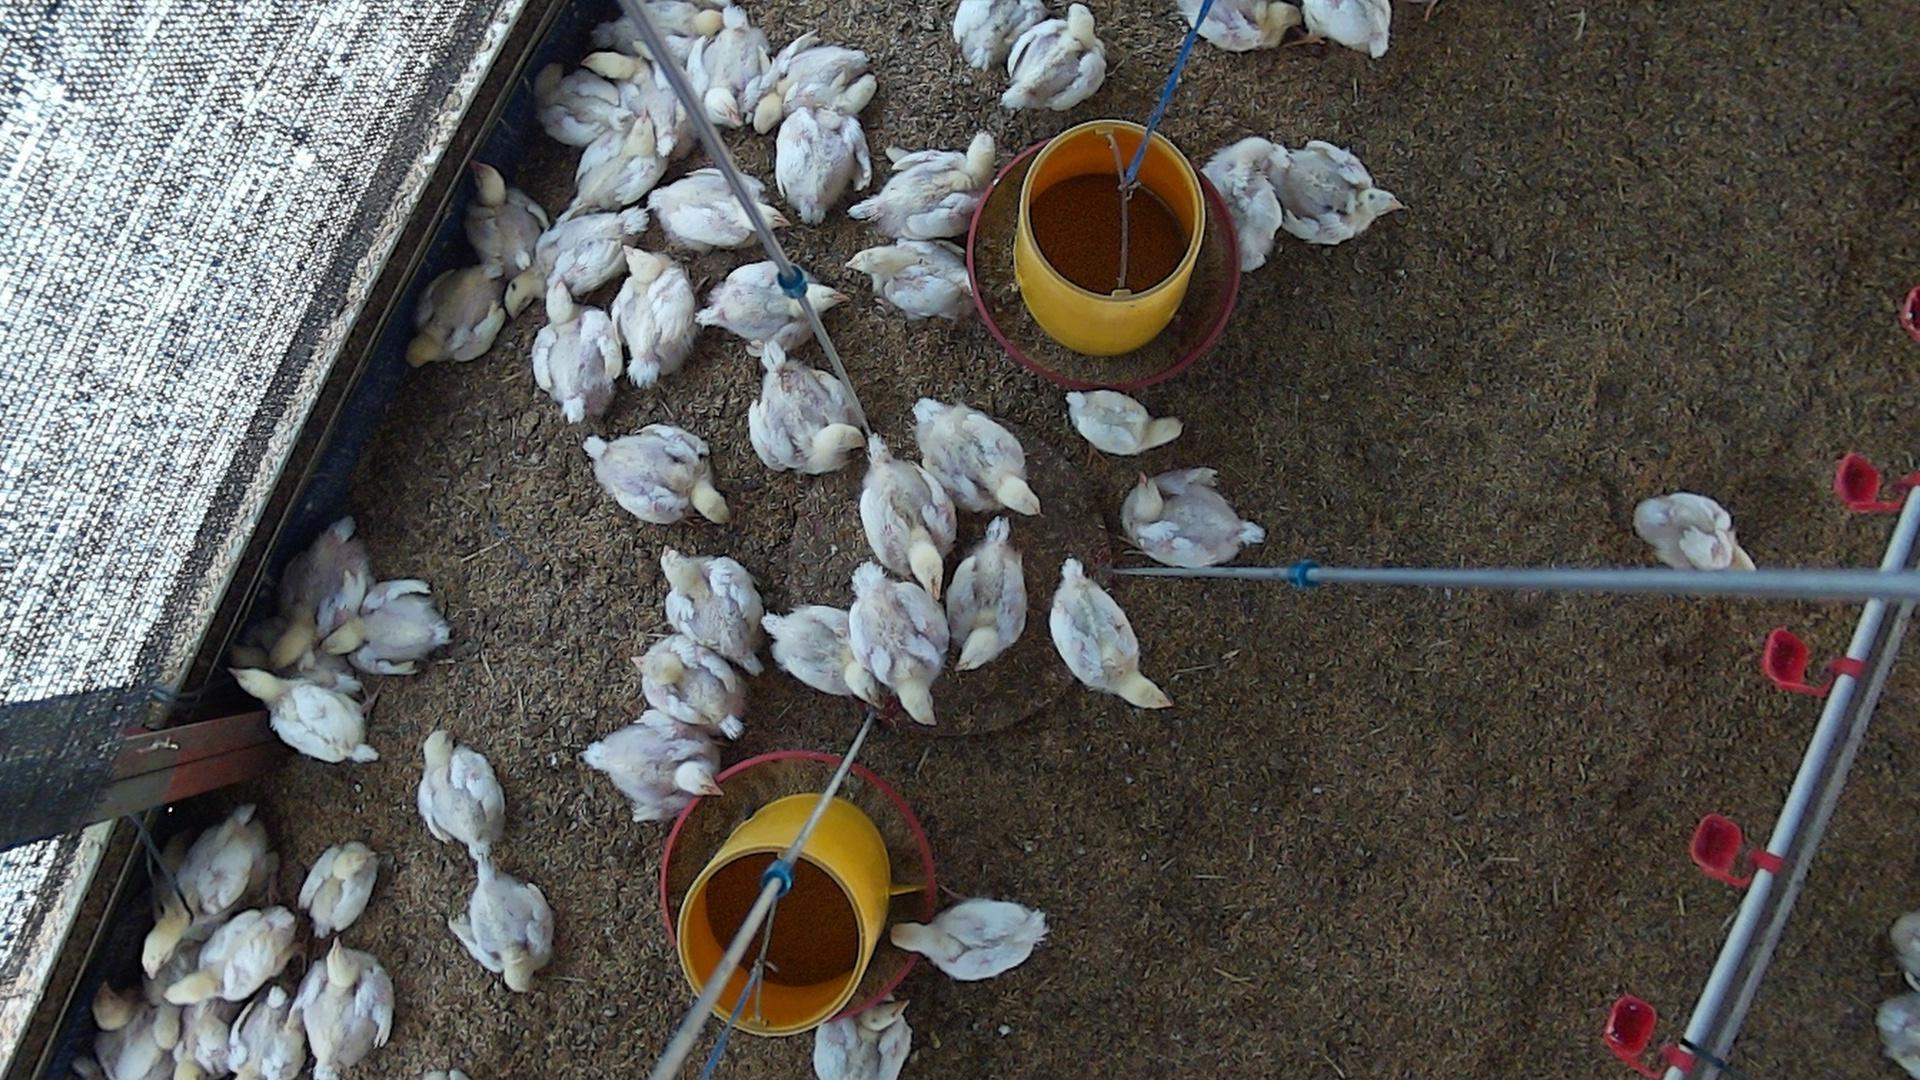ayam_broiler: (144, 803, 269, 977), (1048, 559, 1171, 707), (694, 256, 843, 372), (750, 334, 866, 473), (851, 556, 948, 723), (849, 131, 997, 240), (861, 431, 956, 593), (913, 397, 1040, 517), (891, 885, 1051, 980), (1258, 137, 1399, 243), (273, 520, 371, 671), (1121, 467, 1266, 567), (450, 851, 553, 990), (585, 425, 728, 525), (584, 713, 716, 822), (295, 940, 393, 1080), (236, 666, 376, 762), (659, 545, 765, 669), (531, 285, 624, 422), (323, 578, 450, 675), (775, 94, 873, 220), (418, 729, 504, 872), (947, 517, 1026, 667), (612, 247, 695, 388), (649, 165, 786, 249), (1002, 3, 1106, 113), (526, 202, 649, 294), (177, 907, 297, 1001), (637, 636, 745, 738), (752, 37, 873, 127), (760, 604, 873, 698), (1204, 138, 1286, 268), (407, 258, 504, 365), (848, 239, 976, 318), (1634, 492, 1758, 571), (688, 5, 767, 128), (567, 119, 670, 211), (469, 169, 550, 280), (597, 51, 684, 149), (537, 61, 633, 146), (812, 1000, 911, 1079), (589, 0, 724, 58), (91, 984, 171, 1079), (1068, 389, 1183, 455), (299, 841, 377, 936), (952, 0, 1048, 73), (231, 985, 303, 1080), (1183, 0, 1295, 50), (171, 1001, 241, 1080), (1304, 0, 1390, 55)
